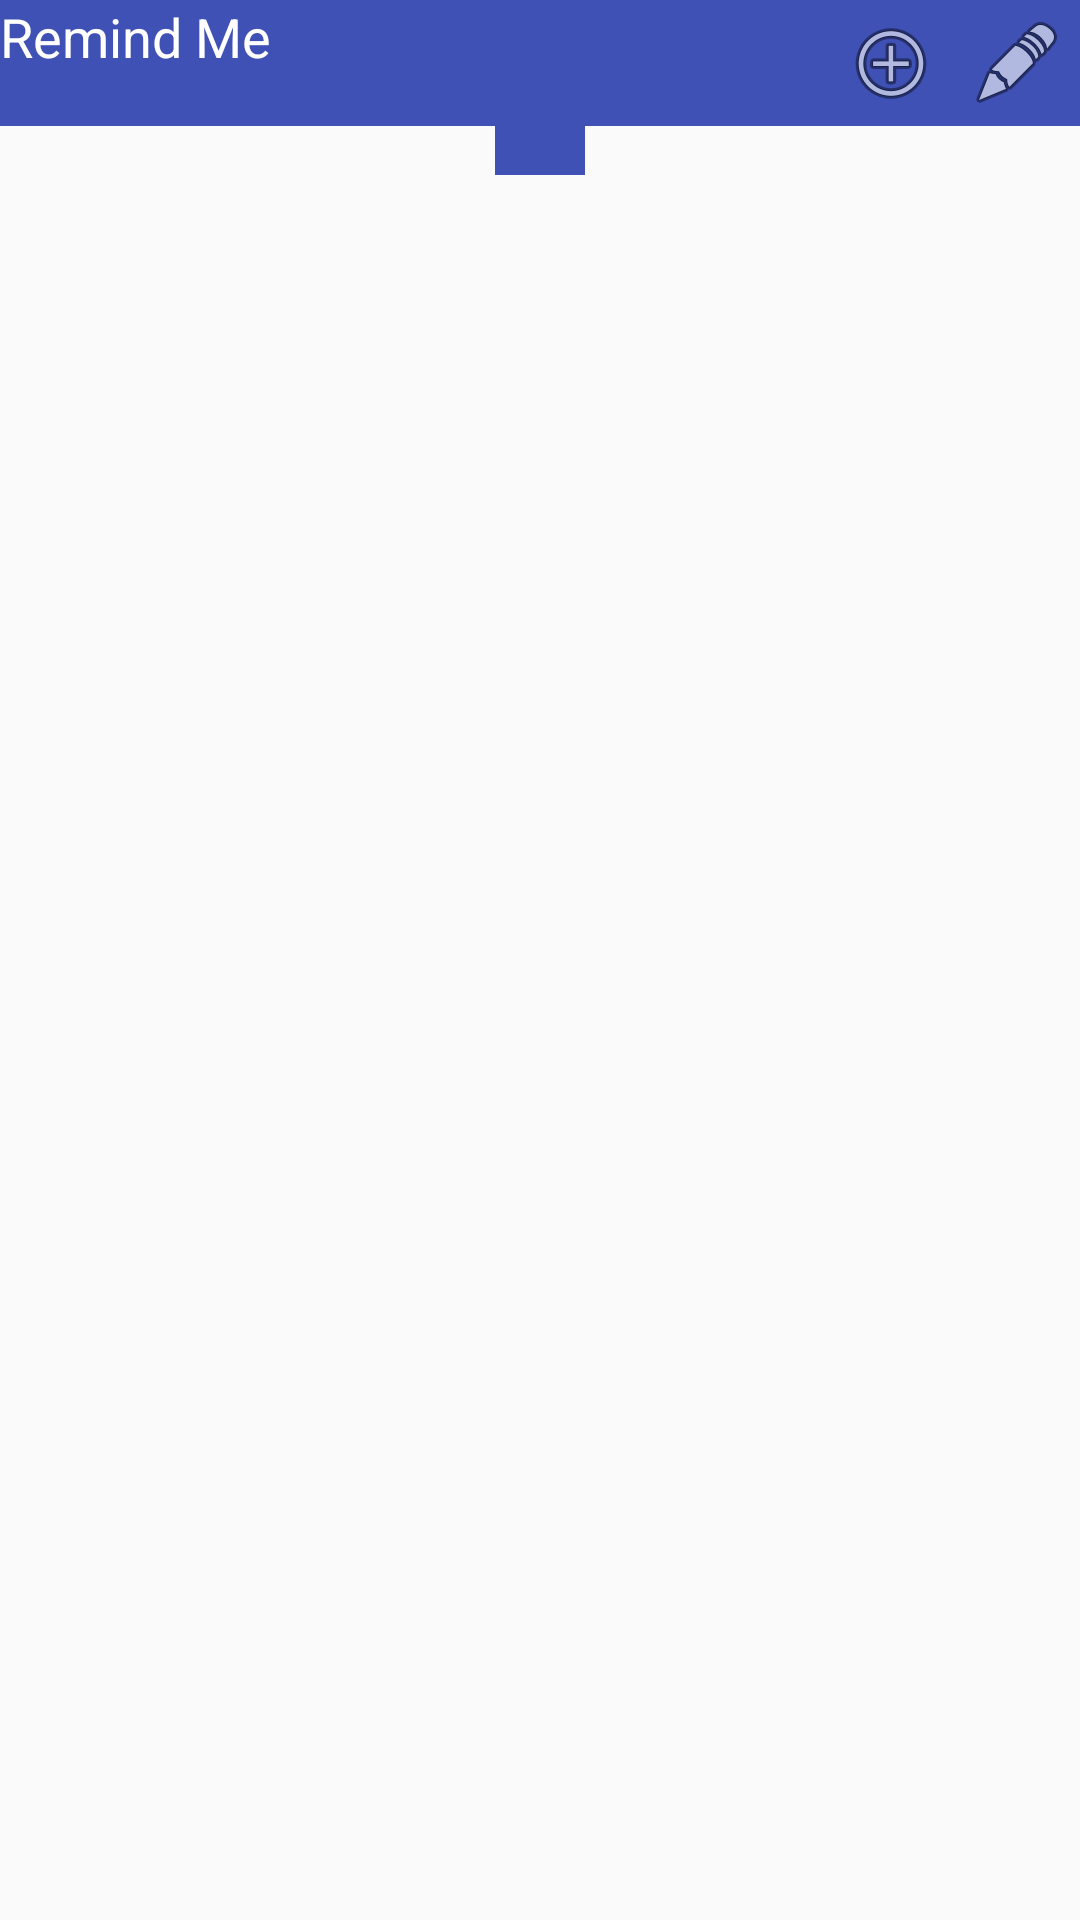

Point at icon controls on the screen. Image size 1080px x 1920px, points as point (x, y).
add: point (891, 63)
edit: point (1016, 62)
